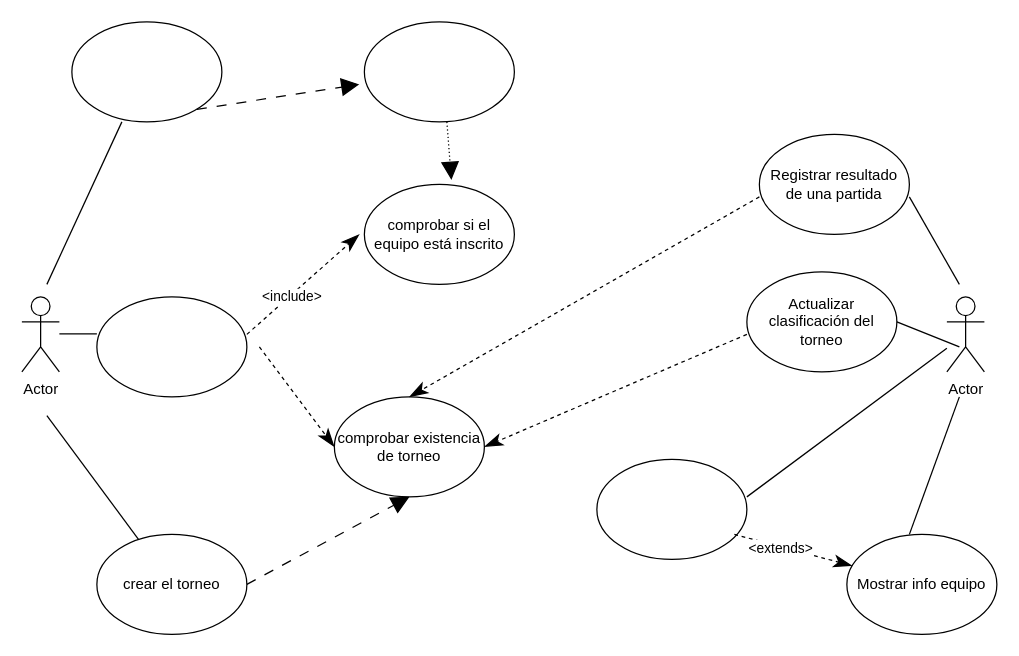
Some shapes in this 1019 by 656 pixel diagram are drawn without their labels. The centre of each missing label's shape, as x and y in pixels:
comprobar si el equipo esta libre: (x=438, y=71)
emparejamiento: (x=146, y=71)
inscribir equipo en el torneo: (x=171, y=346)
Mostrar info Club: (x=671, y=508)
